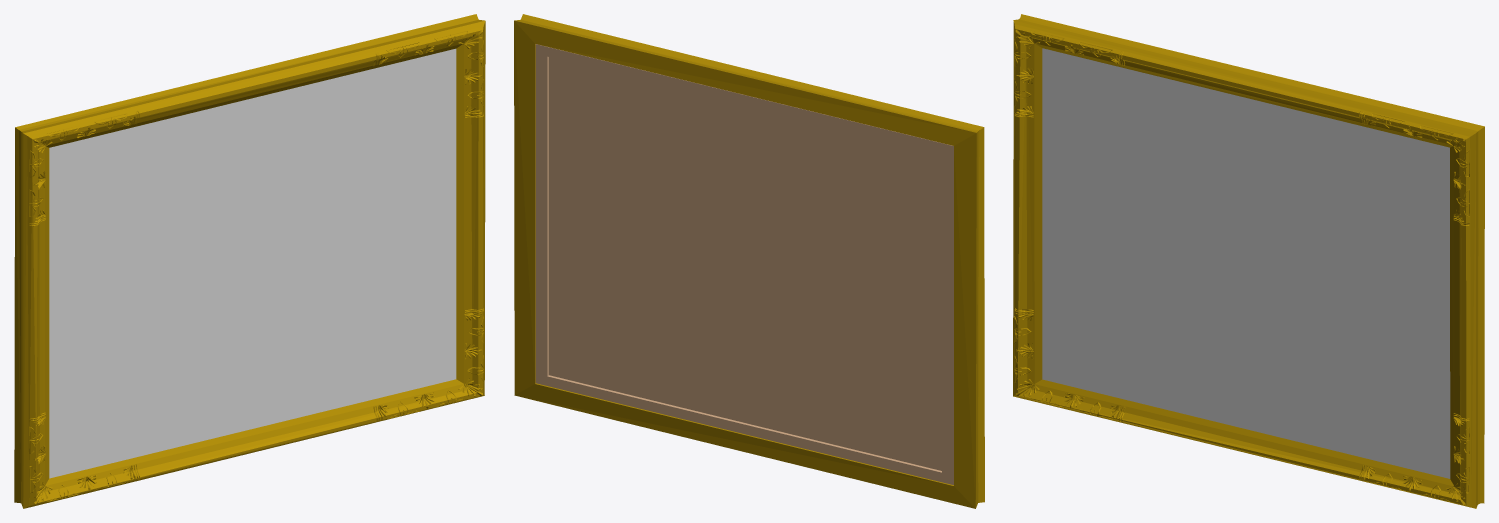
File: frame2_golden_606_455.glb
The picture shows the model from 3 angles, left to right: view 1: azimuth 30°, elevation 25°; view 2: azimuth 150°, elevation 25°; view 3: azimuth 330°, elevation 25°; orthographic projection.
Parts seen in each view (by area): view 1: canvas, frame; view 2: ura, frame; view 3: canvas, frame.
Part boxes in pixels (x1,y1,x2,y2): canvas: (49,48,456,478); frame: (14,14,485,508); ura: (535,44,953,484); frame: (514,14,984,508); canvas: (1042,48,1450,478); frame: (1013,14,1484,508).
Bounding box in the file's own units: 344 × 267 × 18.54.
